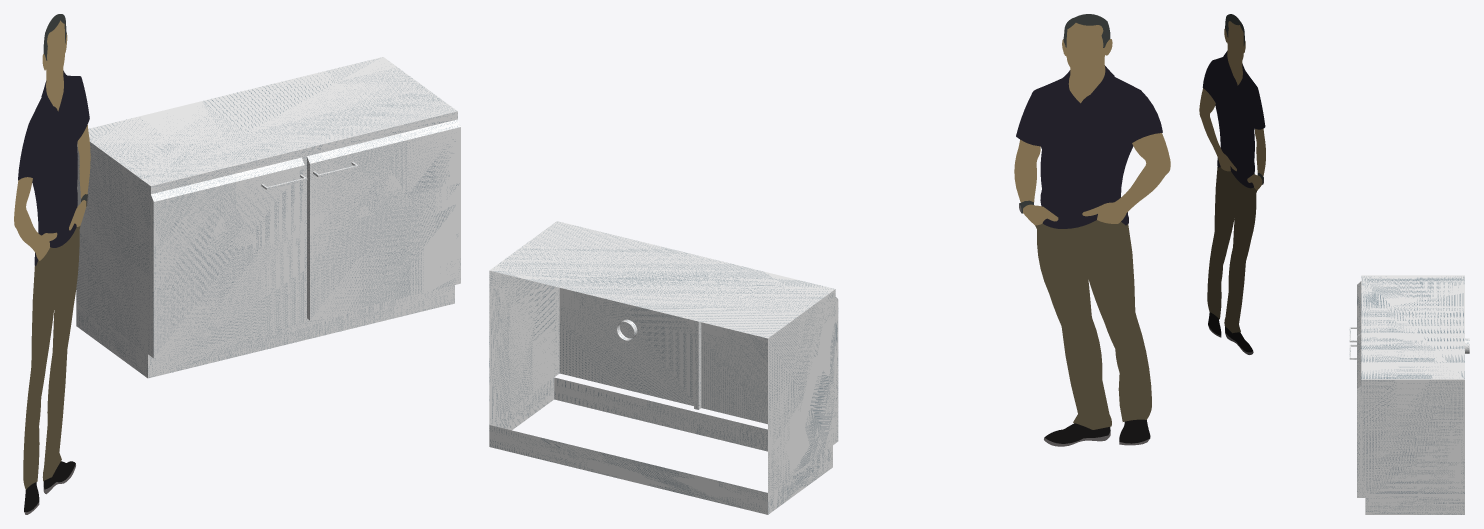
Rendered from ChemieSchrank.fbx.
3 renders of one model, left to right at view 1: azimuth 30°, elevation 25°; view 2: azimuth 150°, elevation 25°; view 3: azimuth 270°, elevation 25°, orthographic. The views are drawn at different scales.
Parts seen in each view (by area): view 1: G_375_010_dwg1, Chris1; view 2: G_375_010_dwg1, Chris1; view 3: G_375_010_dwg1, Chris1.
Boxes of the visible parts, bbox=[...] form: G_375_010_dwg1: bbox=[76, 57, 460, 378]; Chris1: bbox=[14, 14, 90, 514]; G_375_010_dwg1: bbox=[489, 221, 838, 514]; Chris1: bbox=[1014, 14, 1170, 446]; G_375_010_dwg1: bbox=[1357, 275, 1469, 514]; Chris1: bbox=[1199, 14, 1265, 354].
Size of the model in its own units: 2.17 by 1.77 by 1.3.
